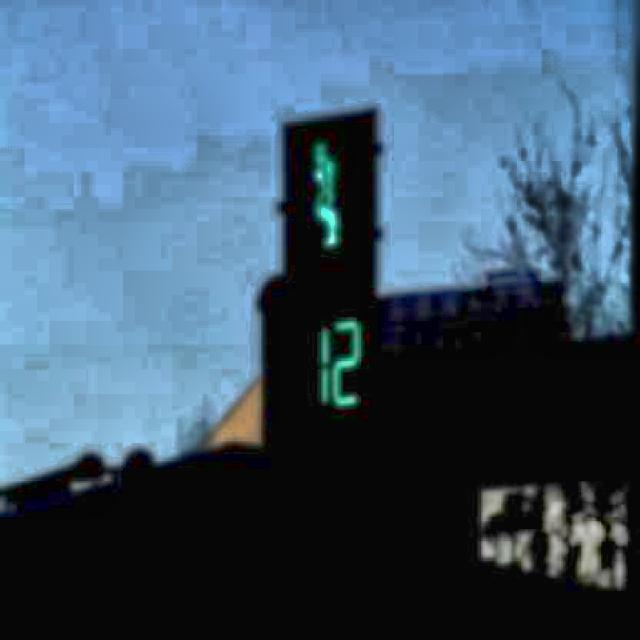semaforo pedestre: (220, 90, 446, 502)
